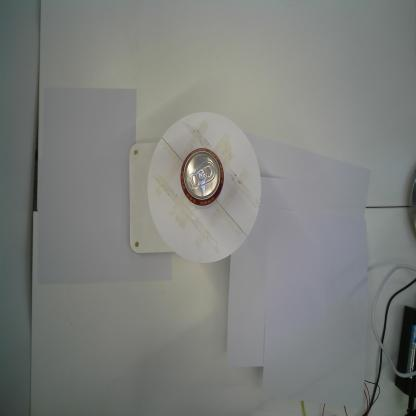Drink: (180, 147, 225, 207)
